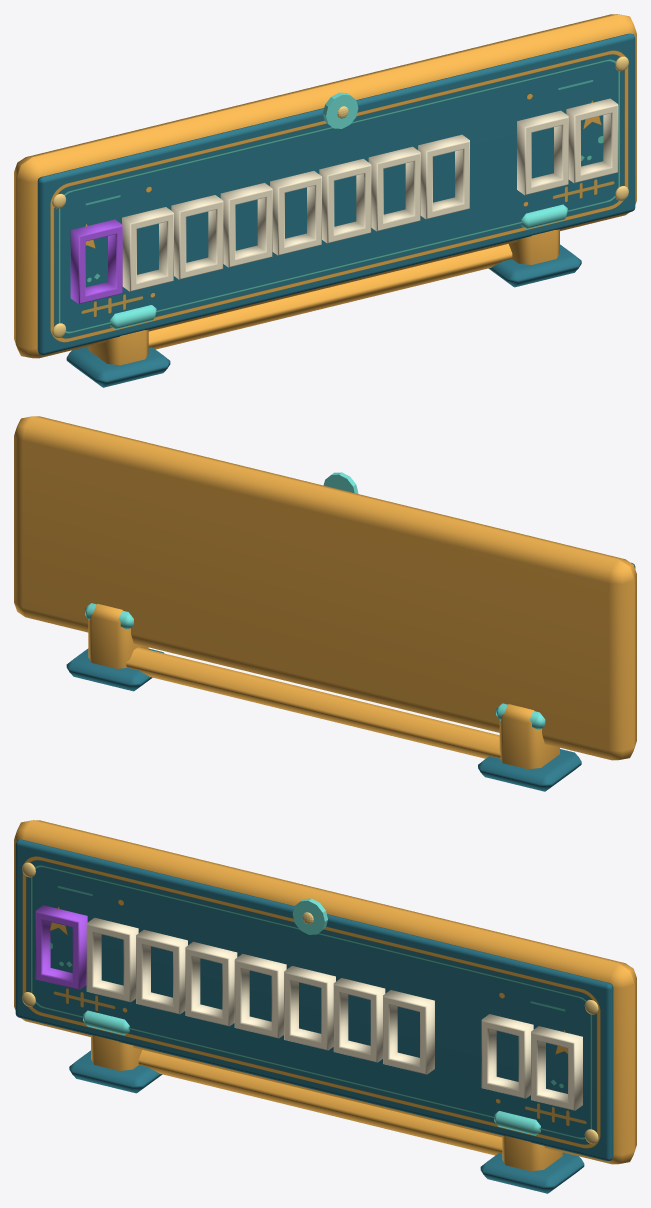
Rendered from asset.glb.
3 renders of one model, top to bottom at view 1: azimuth 30°, elevation 25°; view 2: azimuth 150°, elevation 25°; view 3: azimuth 330°, elevation 25°, orthographic.
Parts seen in each view (by area): view 1: Inset lagoon face, Cream Railtown AI lettering, Rounded honey-gold sign frame, UV-mapped printed SVG face accents, Lower connecting rail, Purple initial R, Rounded foot, Rounded foot.001, Chunky sign post, Chunky sign post.001, Mint sun medallion, Mint post cuff (+1 smaller); view 2: Rounded honey-gold sign frame, Lower connecting rail, Chunky sign post, Chunky sign post.001, Rounded foot, Rounded foot.001; view 3: Inset lagoon face, Cream Railtown AI lettering, Rounded honey-gold sign frame, UV-mapped printed SVG face accents, Lower connecting rail, Purple initial R, Rounded foot.001, Rounded foot, Chunky sign post.001, Chunky sign post, Mint sun medallion, Mint post cuff (+1 smaller).
Part boxes in pixels (x1=…): Inset lagoon face: x1=37, y1=33, x2=635, y2=354; Cream Railtown AI lettering: x1=122, y1=98, x2=618, y2=291; Rounded honey-gold sign frame: x1=14, y1=14, x2=636, y2=358; UV-mapped printed SVG face accents: x1=50, y1=50, x2=628, y2=342; Lower connecting rail: x1=148, y1=244, x2=512, y2=349; Purple initial R: x1=70, y1=219, x2=122, y2=303; Rounded foot: x1=66, y1=346, x2=170, y2=387; Rounded foot.001: x1=488, y1=244, x2=581, y2=287; Chunky sign post: x1=88, y1=329, x2=148, y2=365; Chunky sign post.001: x1=509, y1=229, x2=559, y2=264; Mint sun medallion: x1=323, y1=92, x2=358, y2=128; Mint post cuff: x1=110, y1=305, x2=156, y2=329; Rounded honey-gold sign frame: x1=14, y1=416, x2=636, y2=760; Lower connecting rail: x1=126, y1=647, x2=500, y2=758; Chunky sign post: x1=499, y1=704, x2=559, y2=769; Chunky sign post.001: x1=88, y1=604, x2=148, y2=668; Rounded foot: x1=478, y1=749, x2=581, y2=791; Rounded foot.001: x1=66, y1=648, x2=164, y2=691; Inset lagoon face: x1=15, y1=839, x2=613, y2=1160; Cream Railtown AI lettering: x1=86, y1=917, x2=582, y2=1110; Rounded honey-gold sign frame: x1=14, y1=820, x2=636, y2=1164; UV-mapped printed SVG face accents: x1=22, y1=856, x2=600, y2=1148; Lower connecting rail: x1=138, y1=1050, x2=502, y2=1155; Purple initial R: x1=35, y1=905, x2=87, y2=989; Rounded foot.001: x1=480, y1=1152, x2=584, y2=1193; Rounded foot: x1=69, y1=1050, x2=162, y2=1093; Chunky sign post.001: x1=502, y1=1135, x2=562, y2=1171; Chunky sign post: x1=91, y1=1035, x2=141, y2=1070; Mint sun medallion: x1=292, y1=898, x2=327, y2=934; Mint post cuff: x1=83, y1=1010, x2=129, y2=1035.
Size of the model in its own units: 4 by 1.47 by 0.4718.
Materials: 7 (1 with a texture image).
